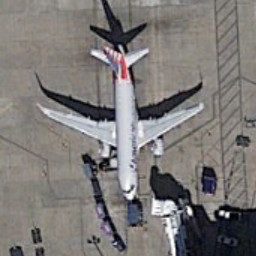Airplane: (31, 35, 216, 210)
